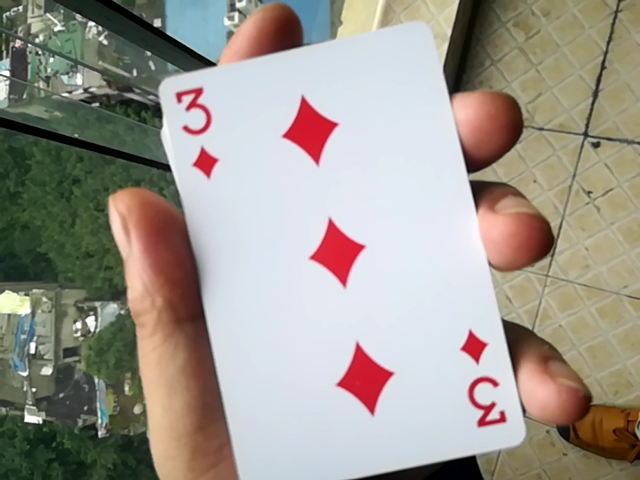fk 3: (132, 20, 524, 474)
